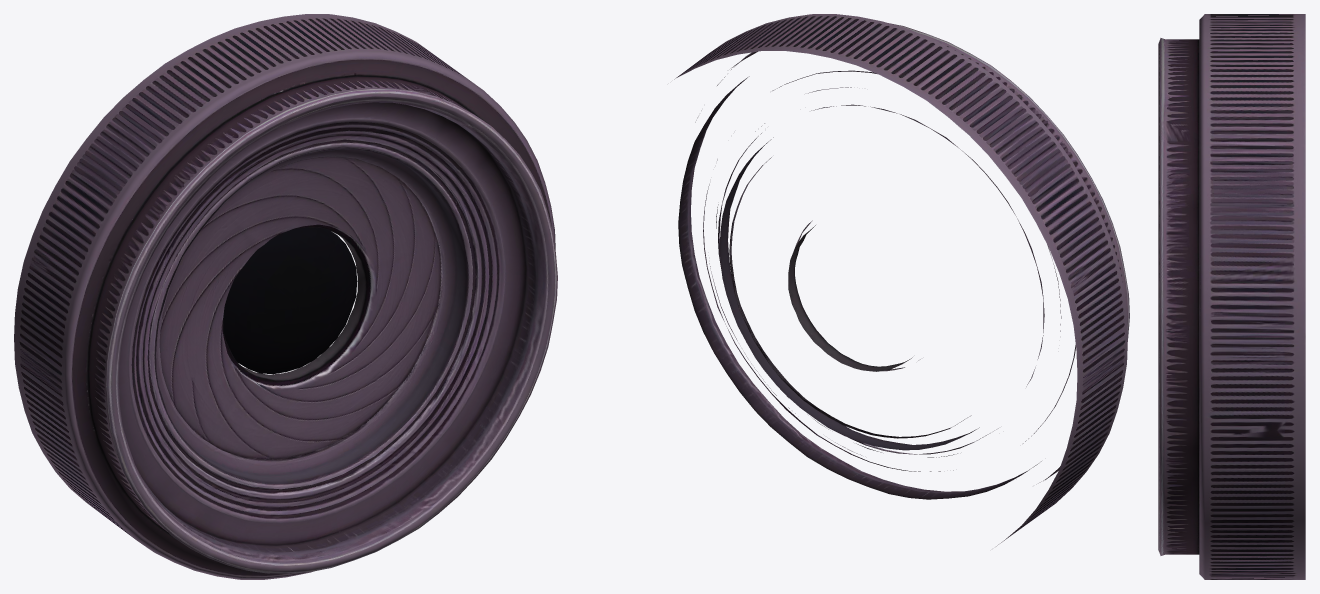
The model's file is original_glb.glb.
The picture shows the model from 3 angles, left to right: view 1: azimuth 30°, elevation 25°; view 2: azimuth 150°, elevation 25°; view 3: azimuth 270°, elevation 25°; orthographic projection.
Visible parts, largest first — view 1: Iridescent Gunmetal Iris; view 2: Iridescent Gunmetal Iris; view 3: Iridescent Gunmetal Iris.
Boxes of the visible parts, x1,y1,x2,y2 form: Iridescent Gunmetal Iris: [14, 14, 557, 579]; Iridescent Gunmetal Iris: [674, 14, 1129, 546]; Iridescent Gunmetal Iris: [1158, 14, 1305, 579].
Bounding box in the file's own units: 0.998 × 0.998 × 0.2598.
Materials: 1 (1 with a texture image).
